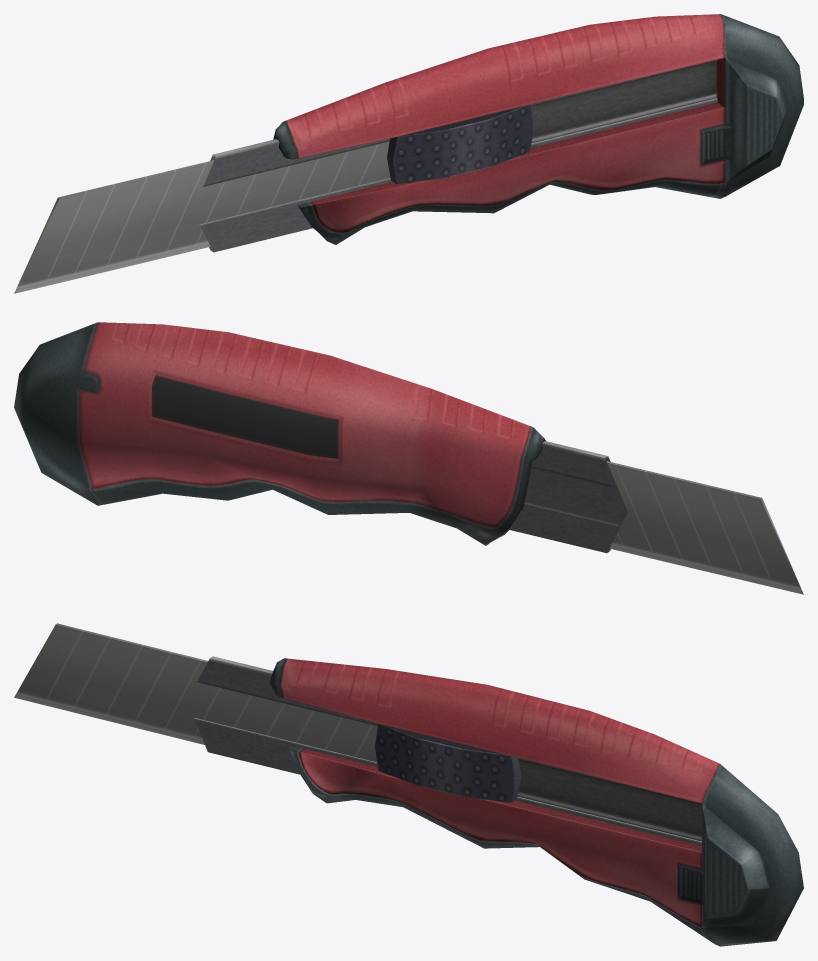
Rendered from 壁纸刀.FBX.
3 renders of one model, top to bottom at view 1: azimuth 30°, elevation 25°; view 2: azimuth 150°, elevation 25°; view 3: azimuth 330°, elevation 25°, orthographic.
Visible parts, largest first — view 1: JJ_Bizidao; view 2: JJ_Bizidao; view 3: JJ_Bizidao.
Boxes of the visible parts, x1,y1,x2,y2 form: JJ_Bizidao: [14, 14, 803, 293]; JJ_Bizidao: [14, 322, 803, 594]; JJ_Bizidao: [14, 623, 803, 946].
Size of the model in its own units: 23.73 by 5.94 by 2.
1 material, 1 textured.
